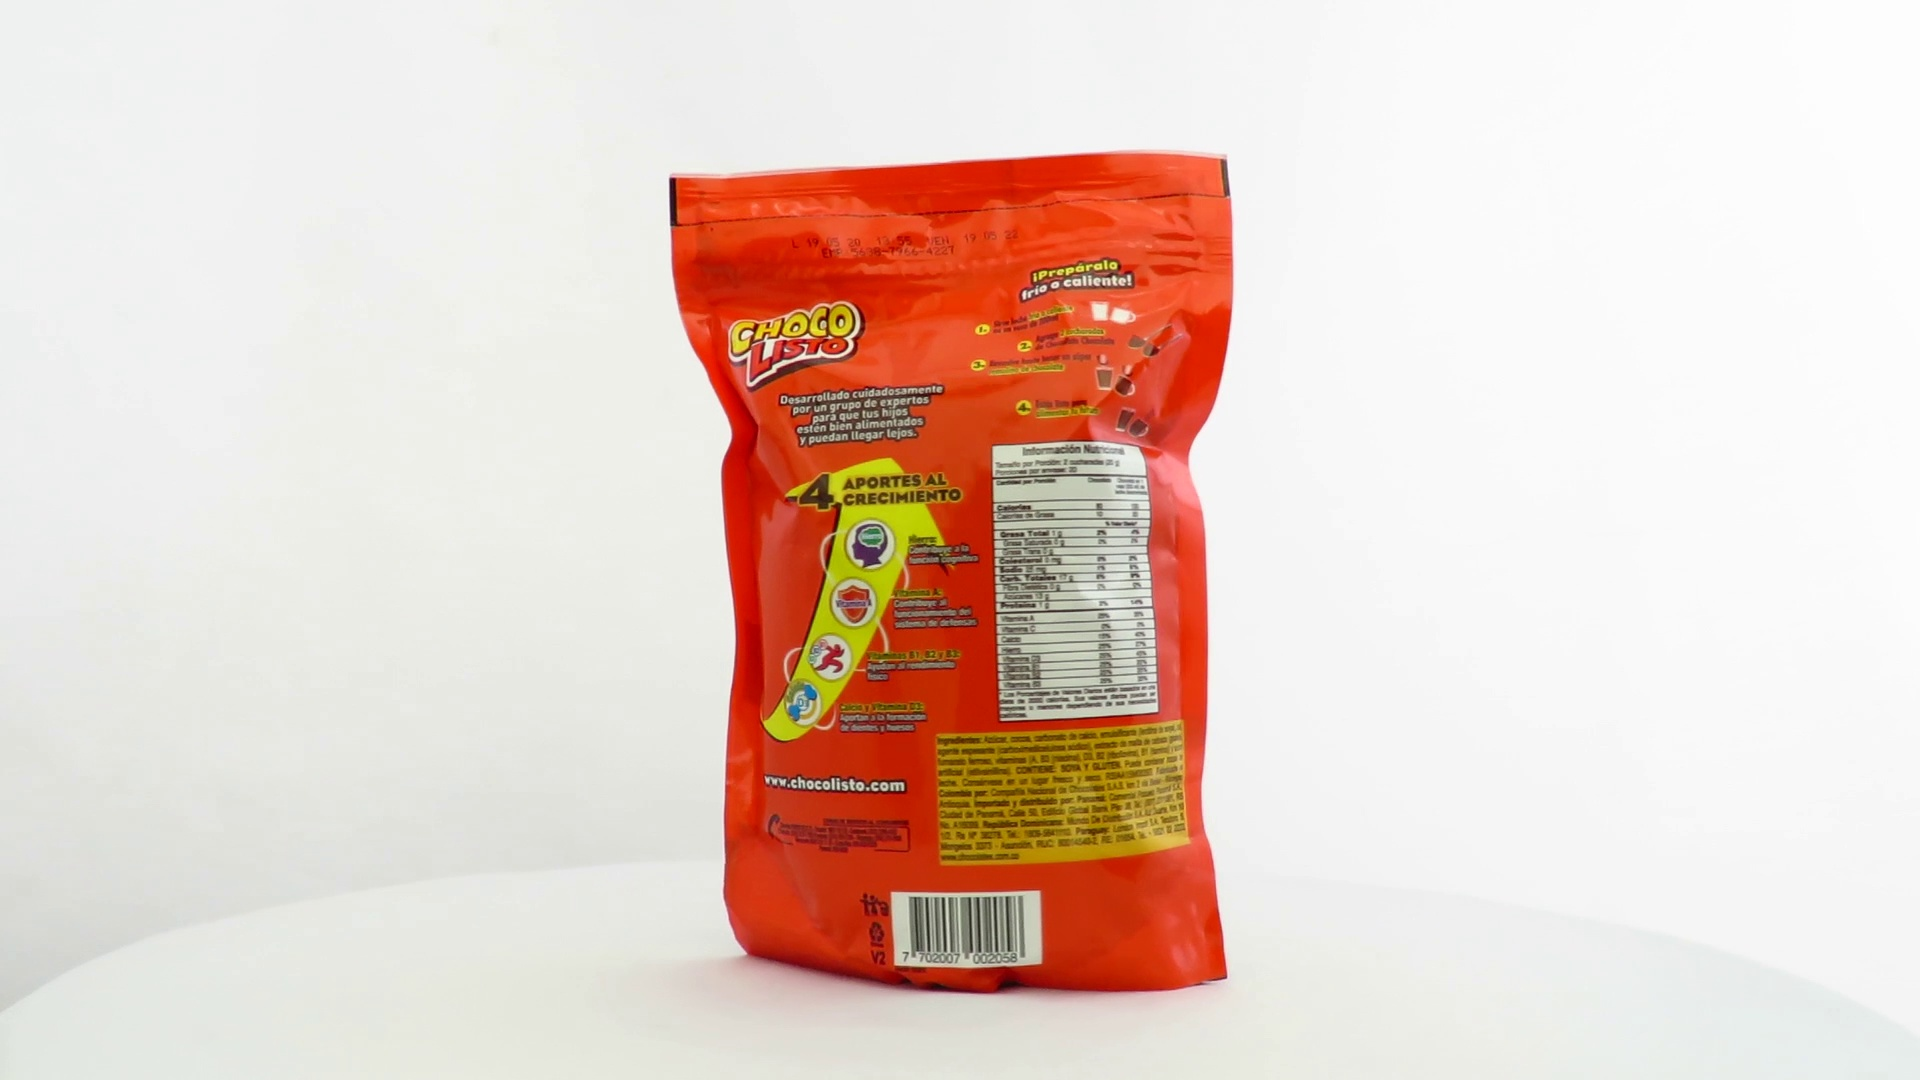COL0170103DYP40000: (665, 144, 1240, 1001)
